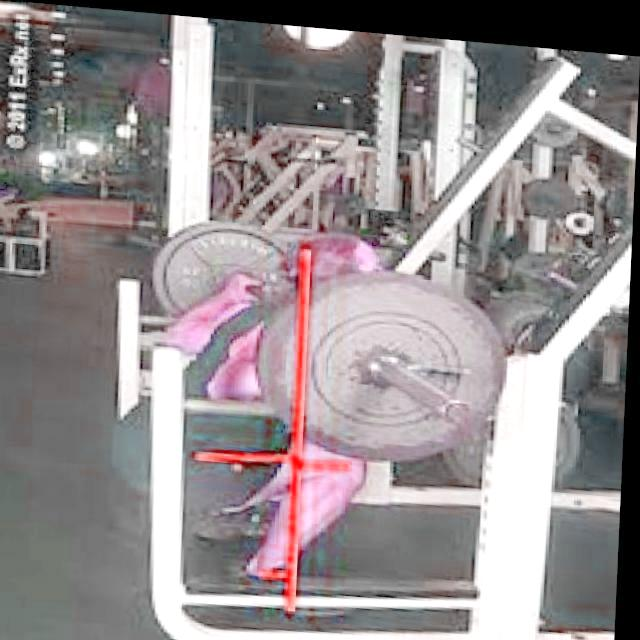barbell: (252, 252, 515, 467)
